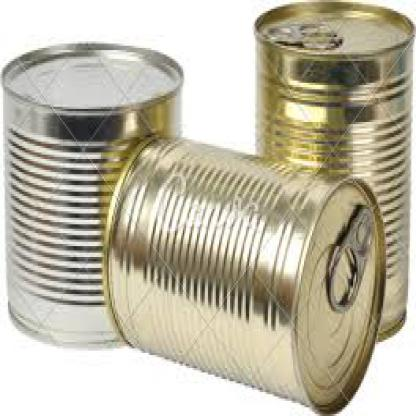METAL: (101, 128, 384, 414), (252, 0, 415, 340), (0, 44, 181, 348), (324, 200, 372, 310), (263, 15, 337, 48)
